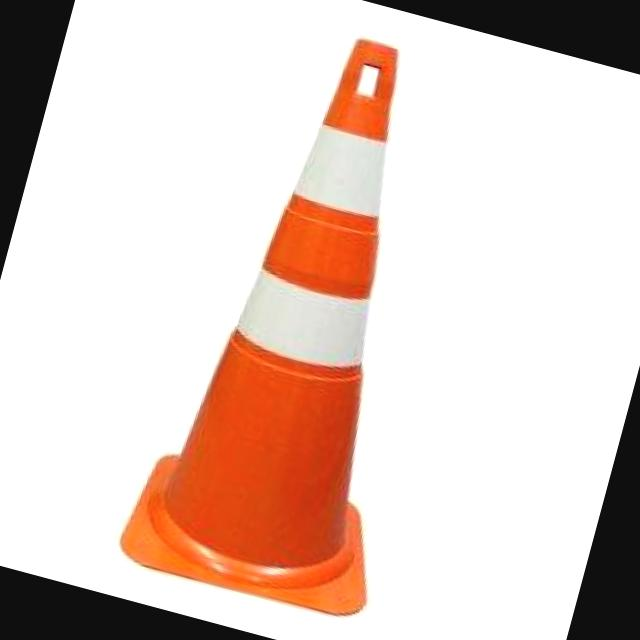cone: (110, 9, 508, 635)
